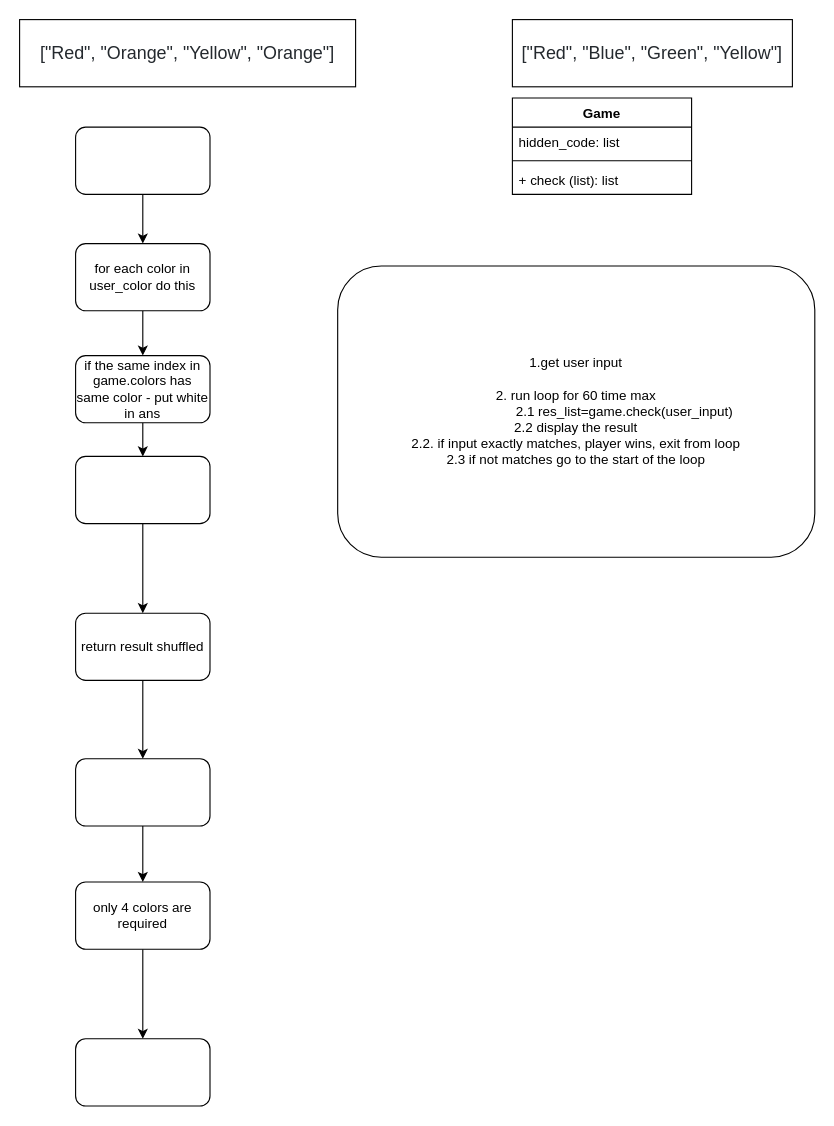
This 834x1126 diagram has some shape labels left out. The shapes that lost their labels are listed below. From the top down, each one's centre as x and y in pixels, then its label:
At point (142, 160): "create a array from user input: user_colors []".
At point (142, 489): "if different index in list(game.colors) has same color - put black in res".
At point (142, 792): "if tries more than 60, no more than 60 tries".
At point (142, 1072): "Invalid color if any input color does not match game color".
